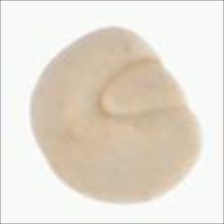L5: (95, 55, 191, 121)
L6: (28, 24, 204, 207)
